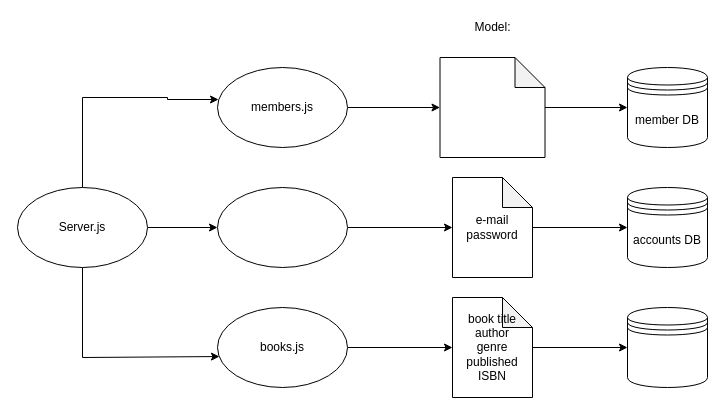
This 725x415 diagram has some shape labels left out. The shapes that lost their labels are listed below. From the top down, each one's centre as x and y in pixels, then its label:
At (x=492, y=107): "first name last name 3 favorite genres zipcode".
At (x=282, y=227): "accounts.js".
At (x=667, y=347): "books DB".
